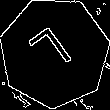L_SE: (27, 23, 82, 82)
